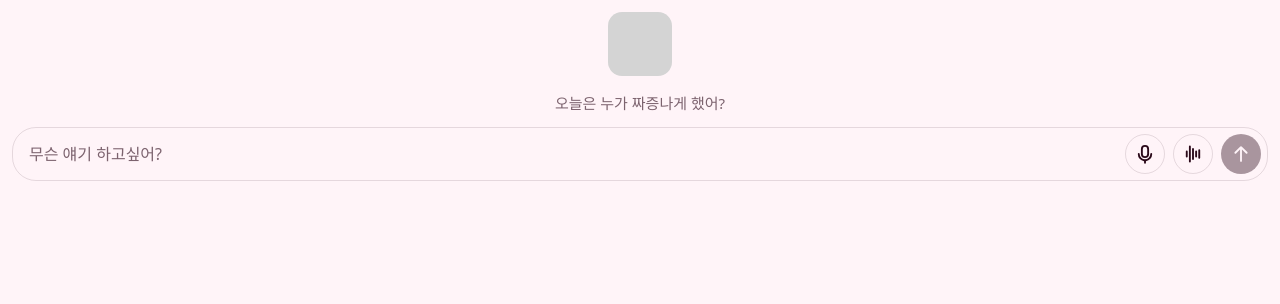
Test case: RoomView (DESIGN.md#3) › 입력창: 전송 → POST + 낙관 말풍선 + 내 잡 잠금
In the text box named "메시지": (573, 154) top-left (29, 138), bottom-right (1117, 170), type "그 사람이 또"
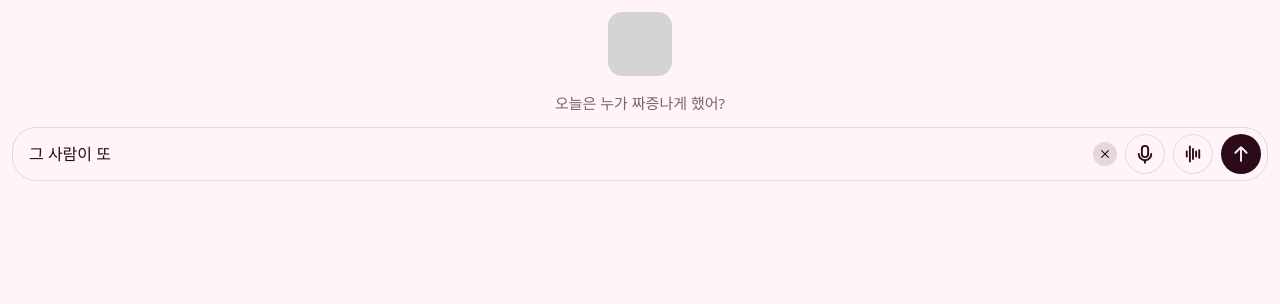
Press Enter in the text box named "메시지", box top-left (29, 138), bottom-right (1085, 170)
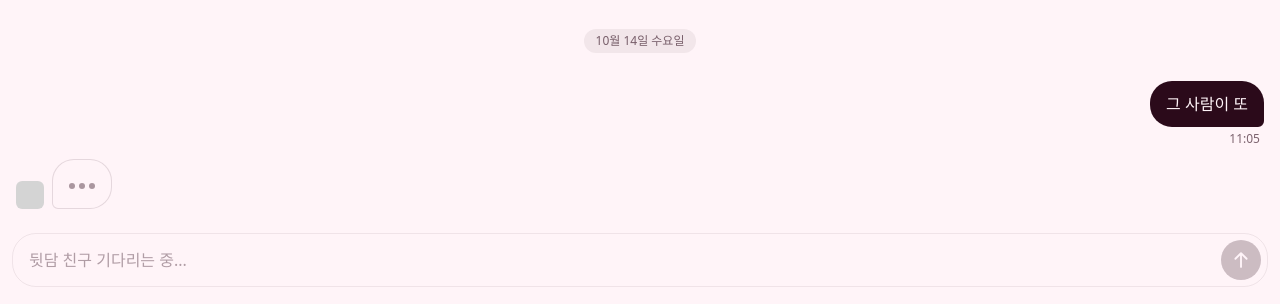
Result: the text "그 사람이 또" is shown at top-left (1150, 81), bottom-right (1264, 127)
Result: the text box is disabled at top-left (29, 244), bottom-right (1213, 276)
Result: the element with test id "typing-dots" is shown at top-left (69, 183), bottom-right (95, 189)
